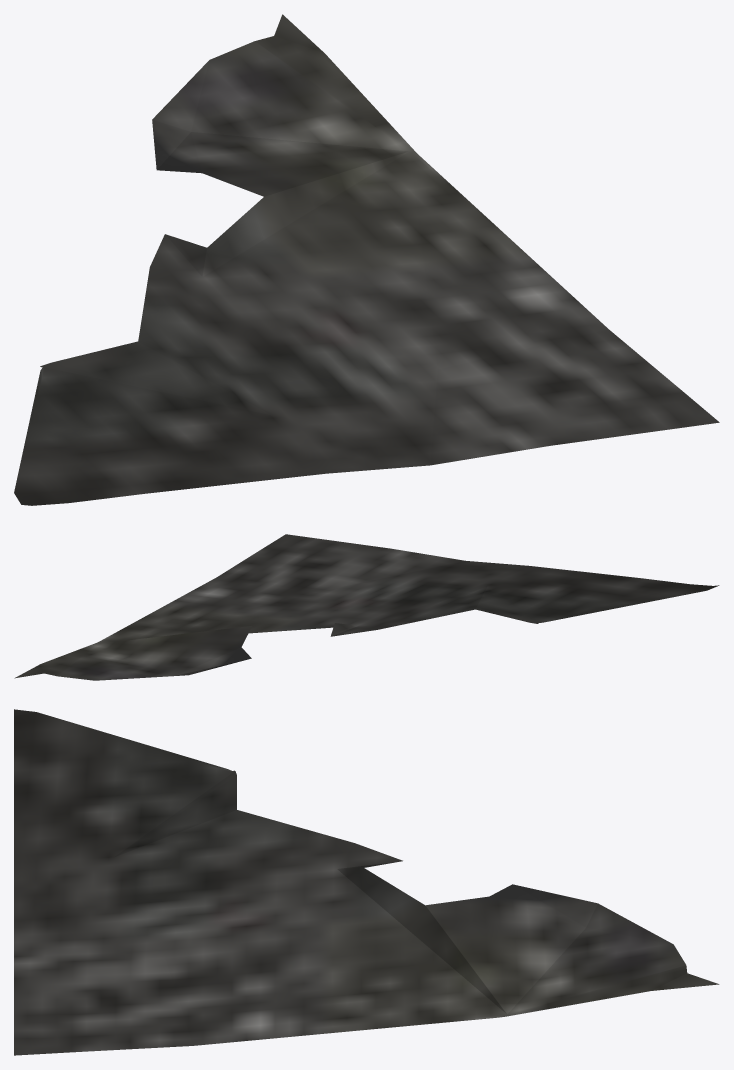
3 renders of one model, top to bottom at view 1: azimuth 30°, elevation 25°; view 2: azimuth 150°, elevation 25°; view 3: azimuth 270°, elevation 25°, orthographic. The views are drawn at different scales.
Size of the model in its own units: 0.2913 by 0.0352 by 0.316.
1 material, 1 textured.
